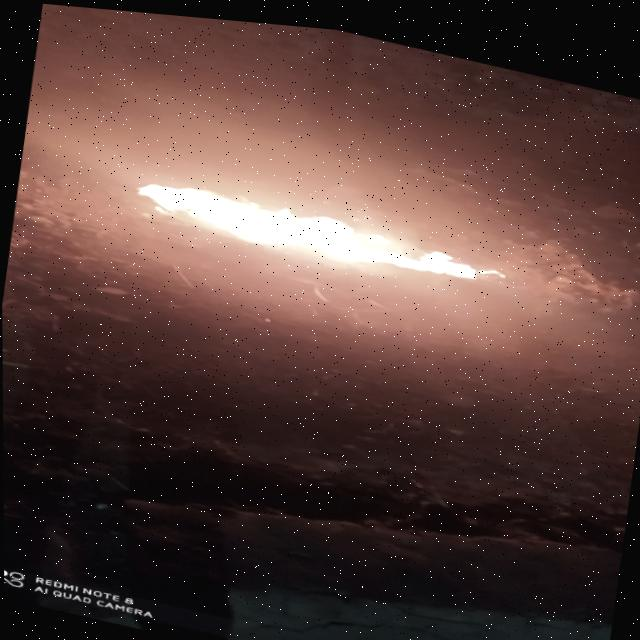Fire: (128, 165, 510, 292)
